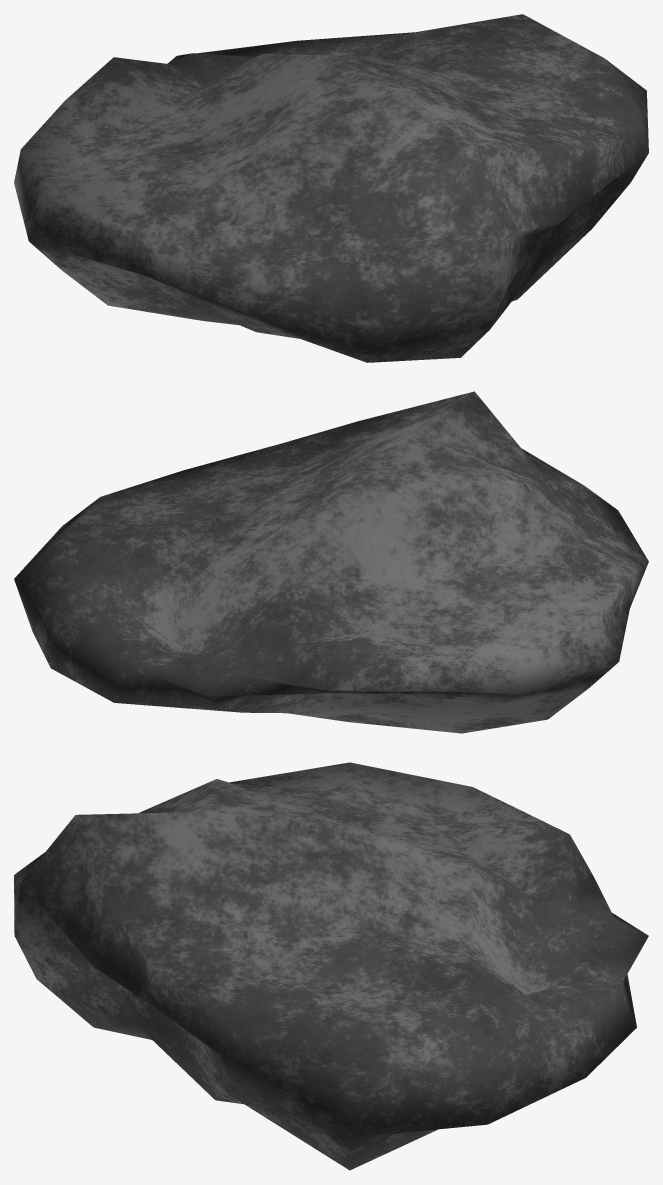
File: Roca3.fbx
3 views of the same model, one above another, from view 1: azimuth 30°, elevation 25°; view 2: azimuth 150°, elevation 25°; view 3: azimuth 270°, elevation 25° (orthographic). The views are drawn at different scales.
Visible parts, largest first — view 1: Cube.003; view 2: Cube.003; view 3: Cube.003.
Boxes of the visible parts, x1,y1,x2,y2 form: Cube.003: (14, 14, 648, 362); Cube.003: (14, 391, 648, 733); Cube.003: (14, 762, 648, 1170).
Size of the model in its own units: 151 by 62.62 by 138.
